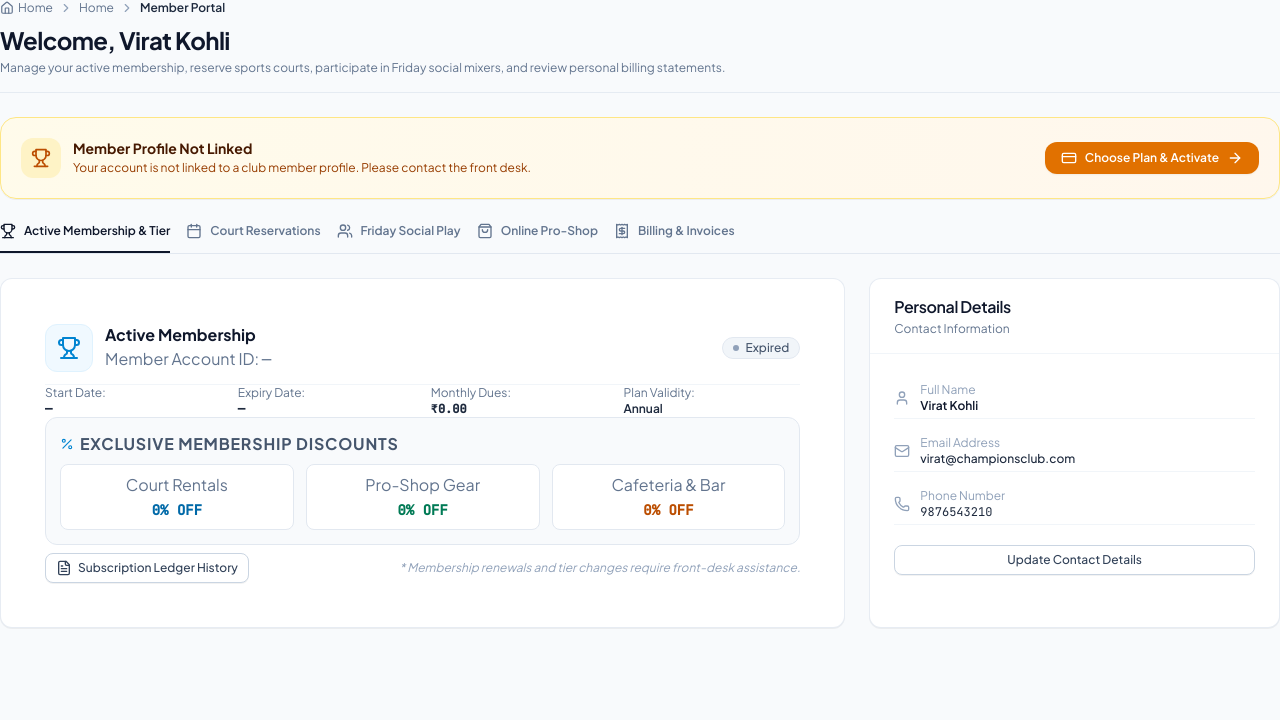
Test case: Milestones H7 & H8: Member & Corporate Portals Integration Tests › allows member to view personal invoices and view line item breakdowns
Click the button "Billing & Invoices" at (674, 238), box [614,223,735,253]
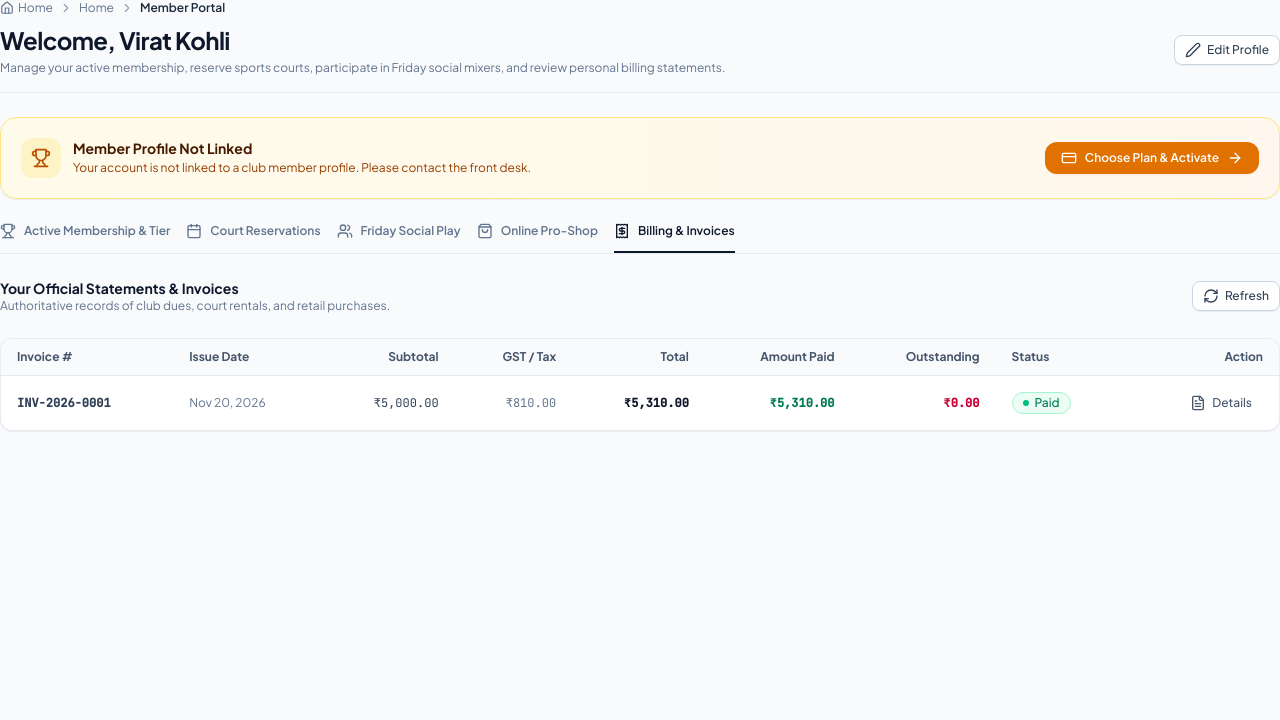
expect the text "Details" is shown: met, box [1212,395,1252,411]
expect the text "INV-2026-0001" is shown: met, box [1,376,173,430]
Click the button "Details" at (1221, 403), box [1179,388,1263,418]
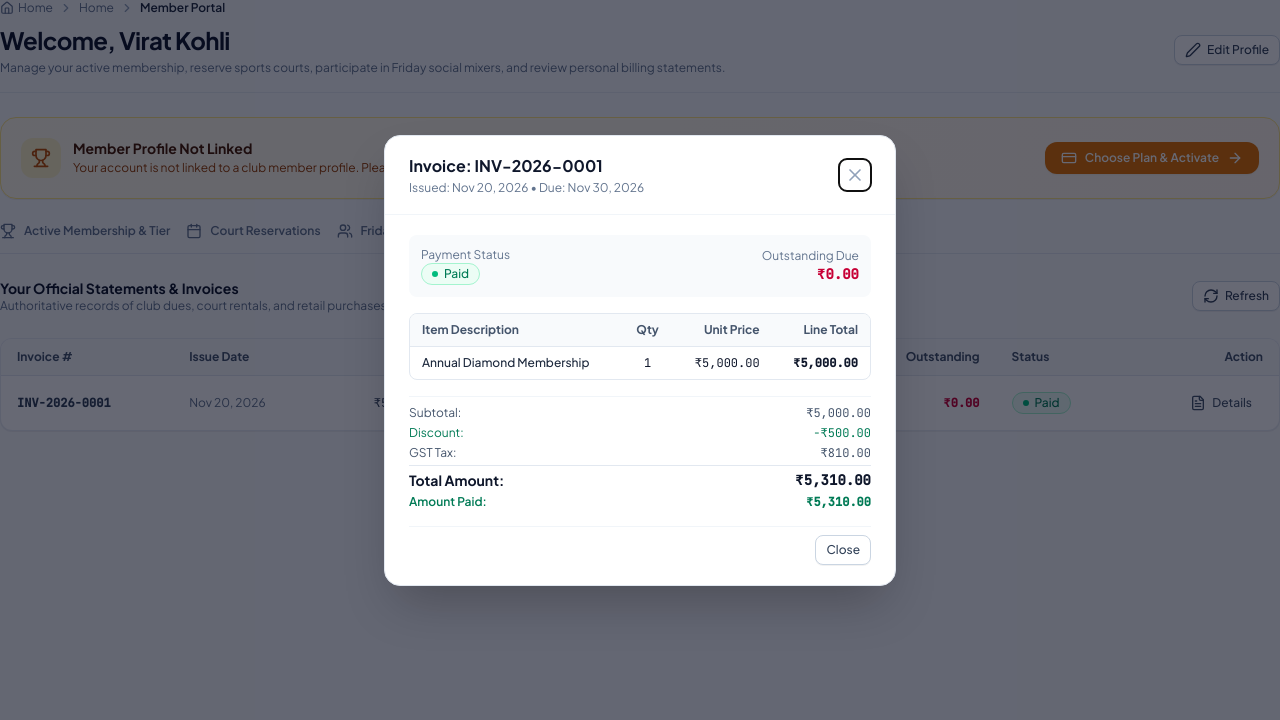
expect the heading "Invoice: INV-2026-0001" is shown: met, box [409,154,603,176]
expect the text "Annual Diamond Membership" is shown: met, box [410,346,622,378]
